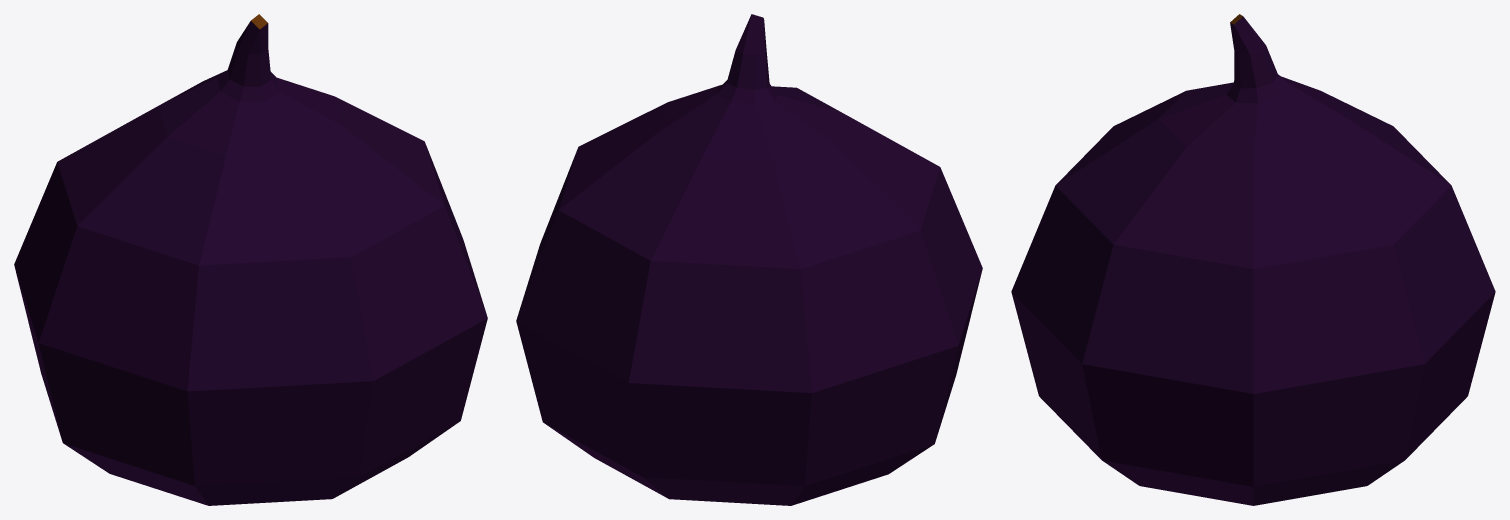
Rendered from fig01.gltf.
3 views of the same model, side by side, from view 1: azimuth 30°, elevation 25°; view 2: azimuth 150°, elevation 25°; view 3: azimuth 270°, elevation 25° (orthographic).
Parts seen in each view (by area): view 1: Cylinder; view 2: Cylinder; view 3: Cylinder.
Part boxes in pixels (left/top/right/bottom): Cylinder: left=14, top=14, right=487, bottom=505; Cylinder: left=516, top=14, right=982, bottom=505; Cylinder: left=1011, top=14, right=1495, bottom=505.
Bounding box in the file's own units: 0.0495 × 0.0489 × 0.0495.
Materials: 1 (1 with a texture image).
